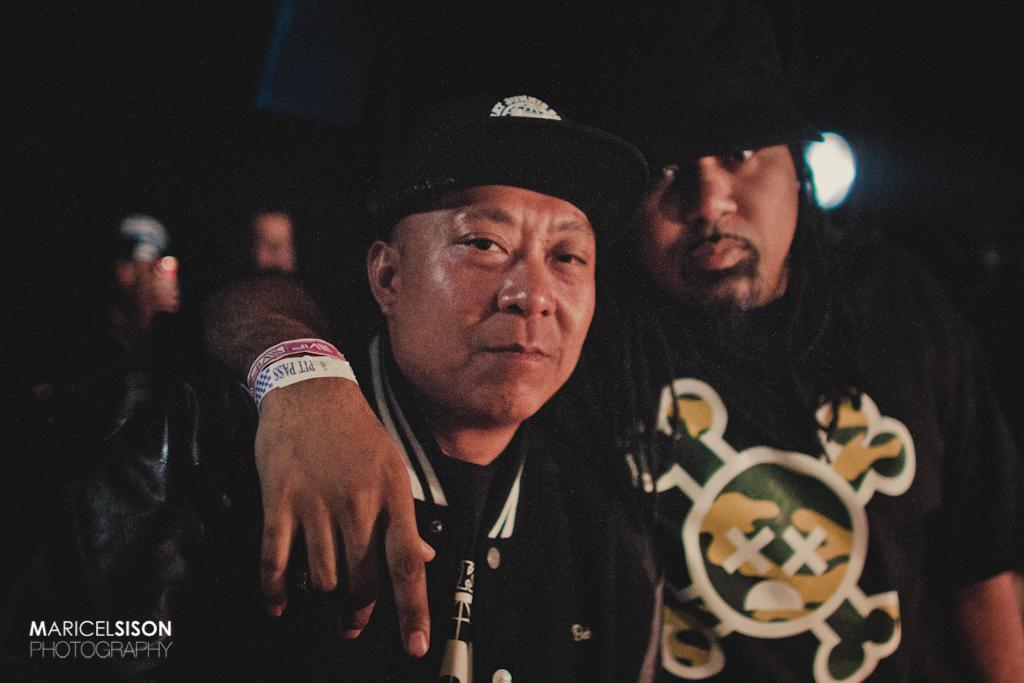Hat: (360, 83, 654, 266), (598, 0, 828, 156)
